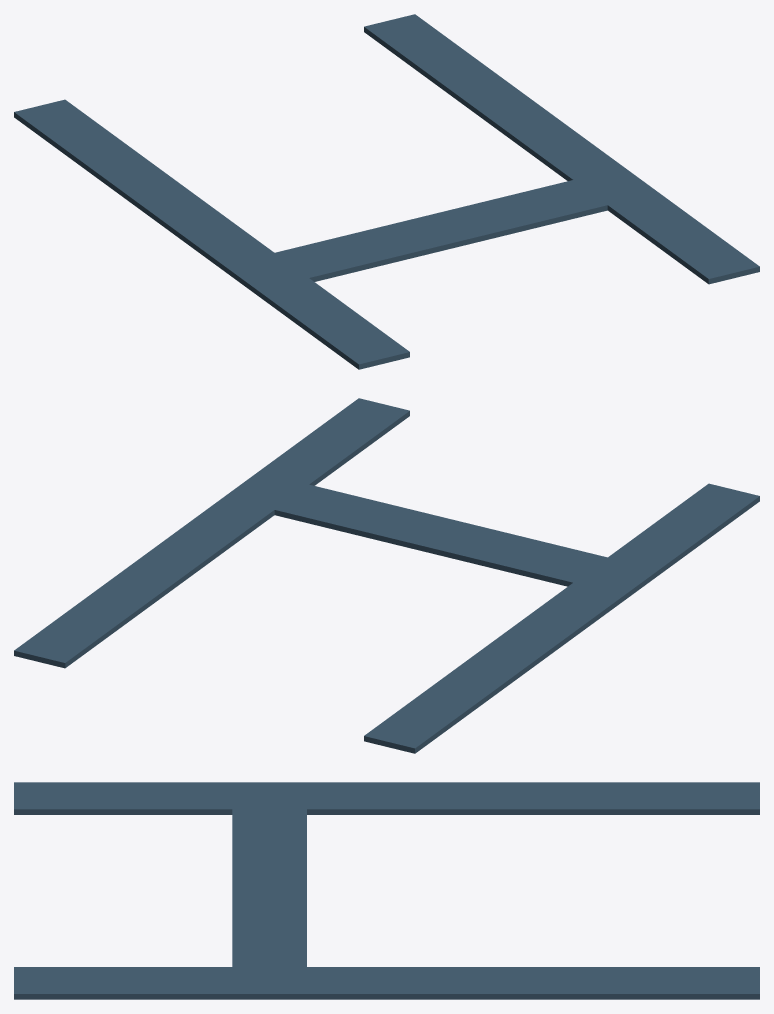
Rendered from v02-01-04-deck.glb.
3 views of the same model, one above another, from view 1: azimuth 30°, elevation 25°; view 2: azimuth 150°, elevation 25°; view 3: azimuth 270°, elevation 25° (orthographic). The views are drawn at different scales.
Visible parts, largest first — view 1: v02-01-04-deck; view 2: v02-01-04-deck; view 3: v02-01-04-deck.
Part boxes in pixels (box(x1,y1,x2,y2)): v02-01-04-deck: box(14, 14, 759, 369); v02-01-04-deck: box(14, 398, 759, 753); v02-01-04-deck: box(14, 782, 759, 999).
Bounding box in the file's own units: 47 × 0.6 × 70.
